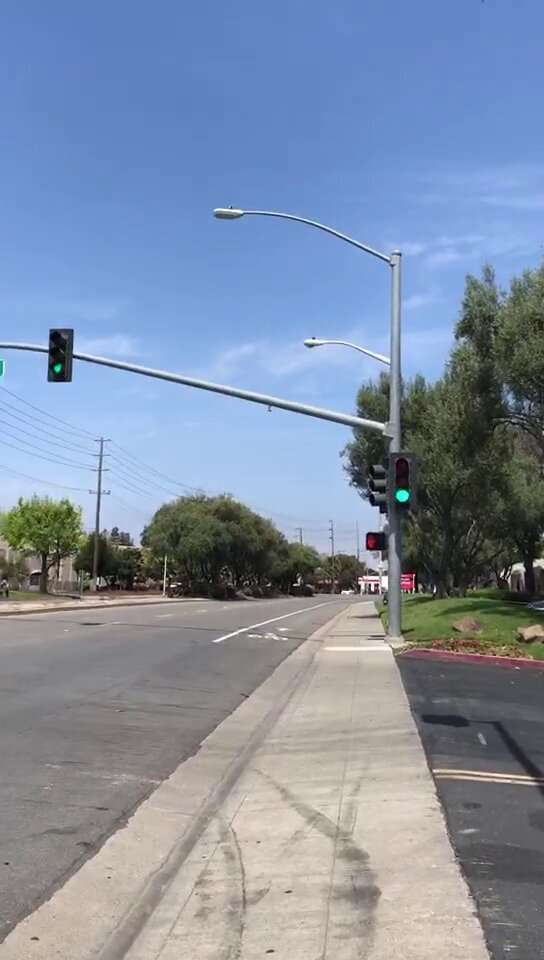green_light: (391, 455, 416, 509), (48, 328, 73, 381)
